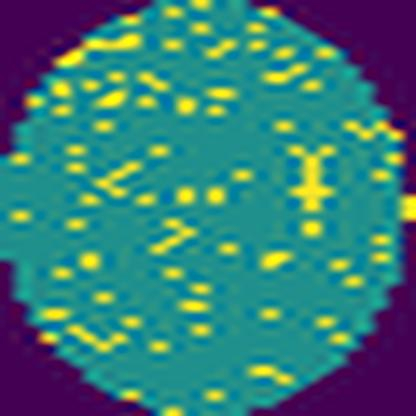Scratch: (286, 138, 339, 218), (89, 154, 145, 204)
